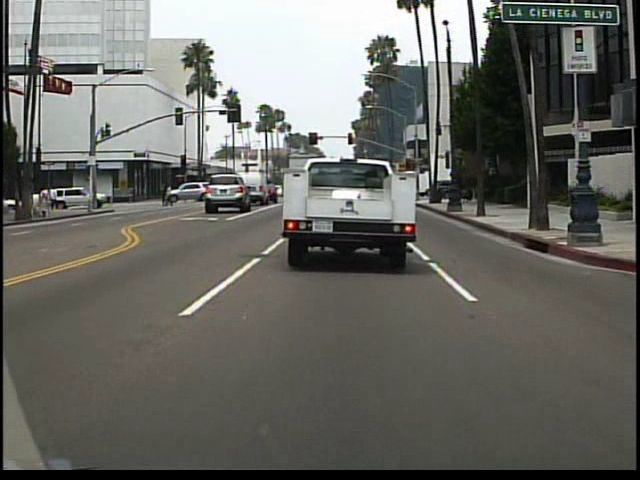person: (47, 184, 61, 214)
